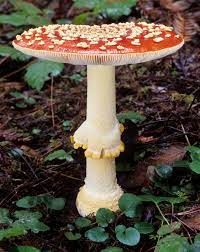Amanita muscaria: (8, 15, 188, 226)
